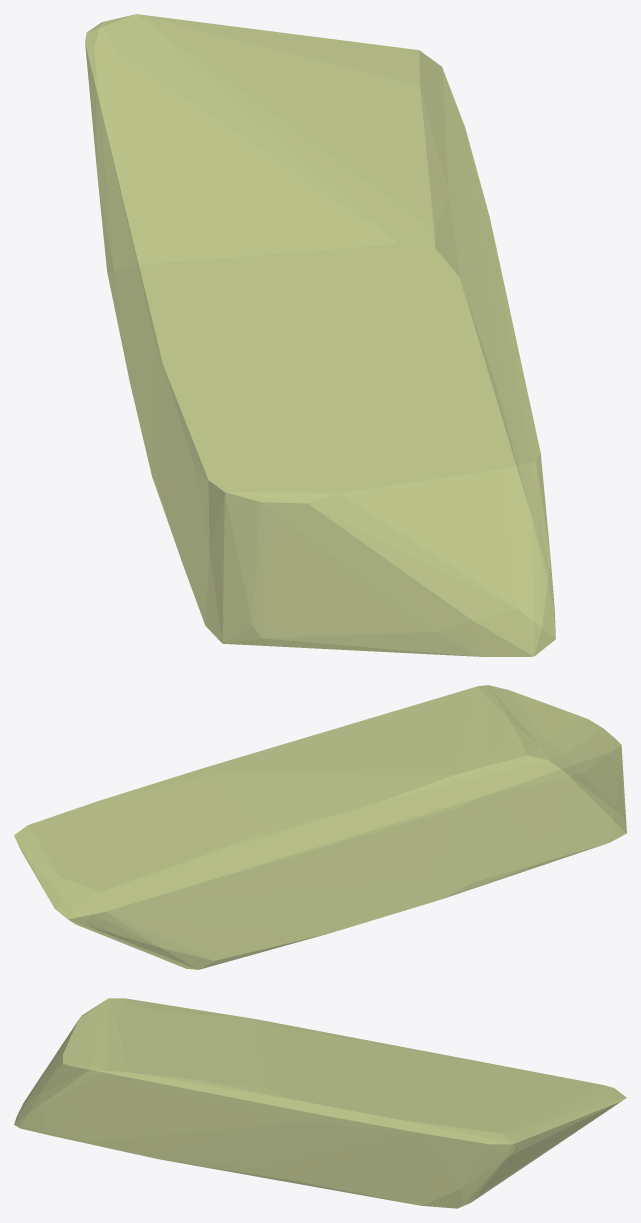
3 views of the same model, one above another, from view 1: azimuth 30°, elevation 25°; view 2: azimuth 150°, elevation 25°; view 3: azimuth 270°, elevation 25° (orthographic). The views are drawn at different scales.
Parts seen in each view (by area): view 1: Shape_IndexedFaceSet.002_Shape_IndexedFaceSet.7166; view 2: Shape_IndexedFaceSet.002_Shape_IndexedFaceSet.7166; view 3: Shape_IndexedFaceSet.002_Shape_IndexedFaceSet.7166.
Boxes of the visible parts, left/top/right/bottom form: Shape_IndexedFaceSet.002_Shape_IndexedFaceSet.7166: left=85, top=14, right=555, bottom=656; Shape_IndexedFaceSet.002_Shape_IndexedFaceSet.7166: left=14, top=685, right=626, bottom=969; Shape_IndexedFaceSet.002_Shape_IndexedFaceSet.7166: left=14, top=998, right=626, bottom=1208.
Bounding box in the file's own units: 0.0424 × 0.00991 × 0.0745.
